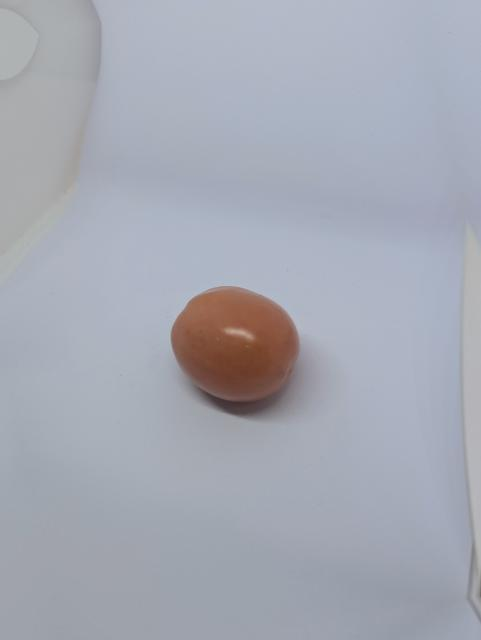turning: (167, 270, 311, 409)
